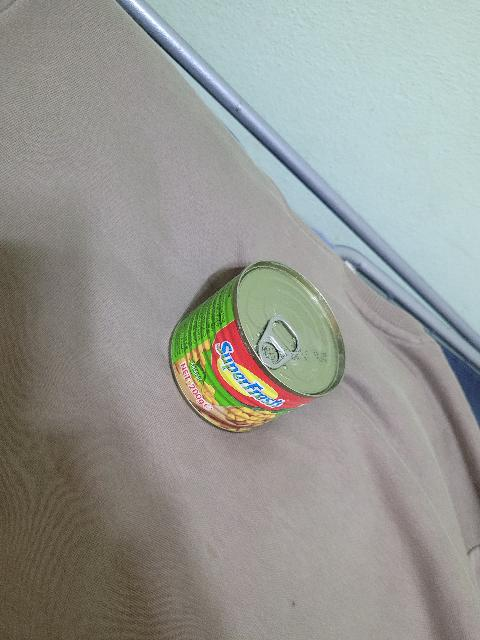Metal: (170, 259, 338, 432)
